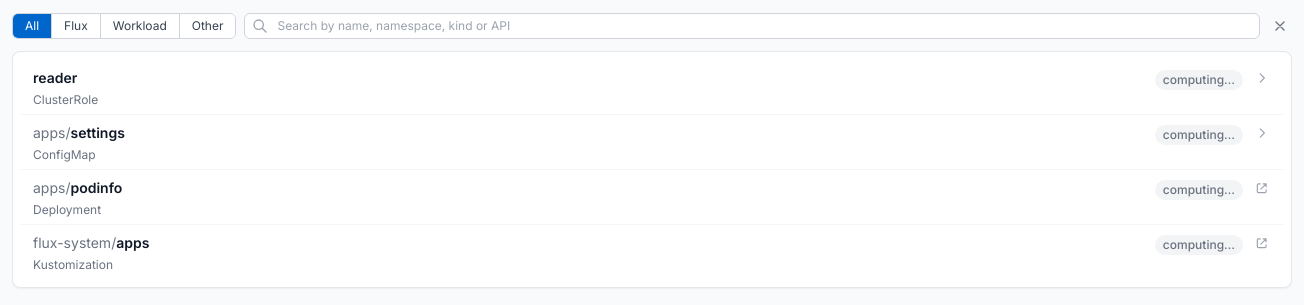
it: InventoryTabContent › filters by the Other category (neither Flux nor workload)
Click the button with test id "inventory-cat-other". click: (207,26)
box: top-left (179, 14), bottom-right (236, 38)
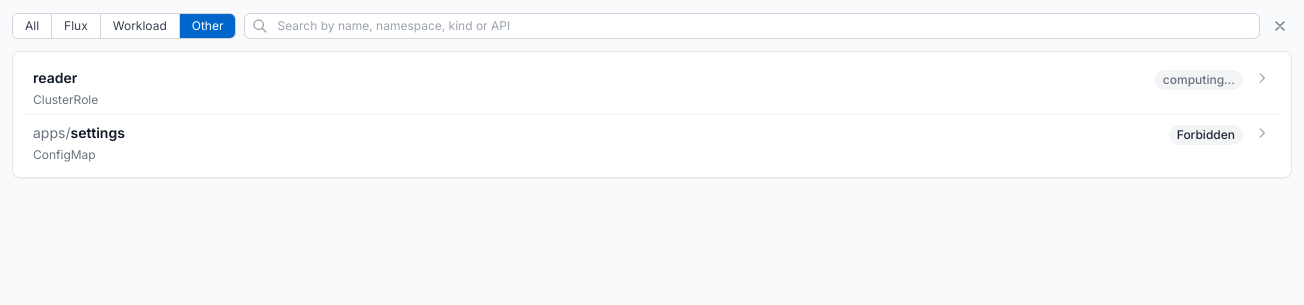
expect the text "ConfigMap" is shown: met, box top-left (33, 147), bottom-right (96, 163)
expect the text "Kustomization" is gone: met
